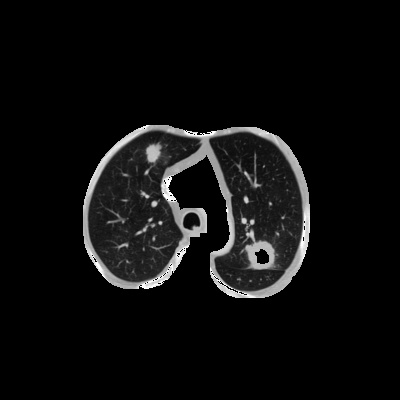PN: (144, 144, 160, 160)
